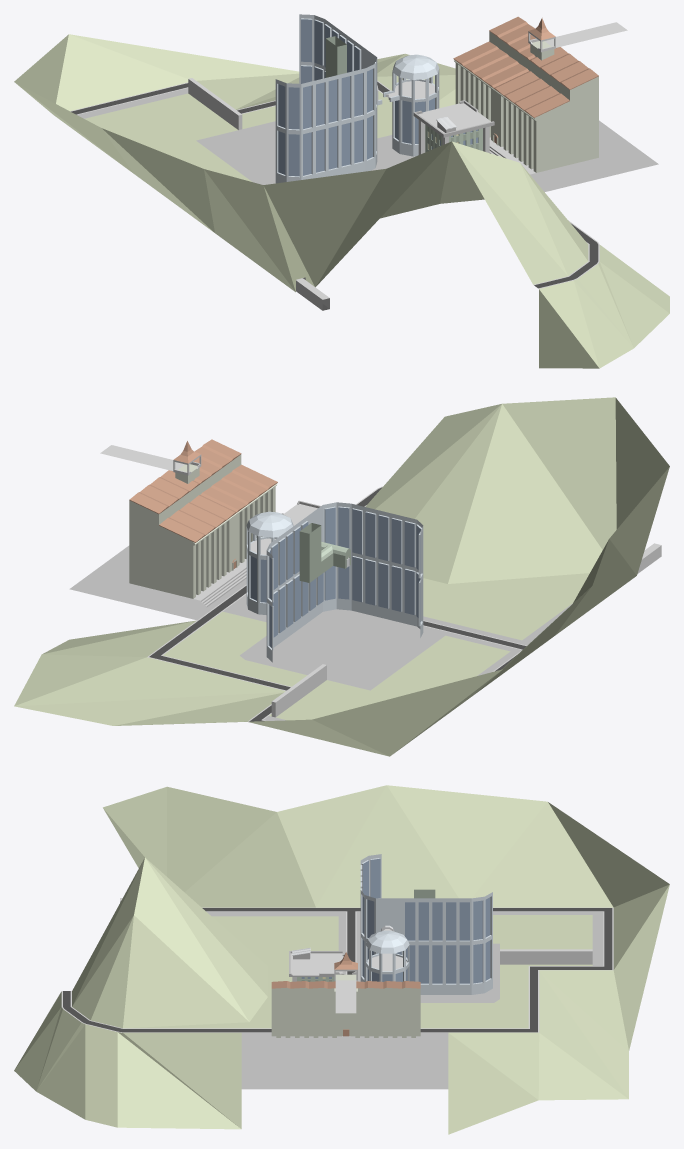
The model's file is Roofs.fbx.
The picture shows the model from 3 angles, top to bottom: view 1: azimuth 30°, elevation 25°; view 2: azimuth 150°, elevation 25°; view 3: azimuth 270°, elevation 25°; orthographic projection. The views are drawn at different scales.
Parts seen in each view (by area): view 1: Skyscrapers; view 2: Skyscrapers; view 3: Skyscrapers.
Part boxes in pixels (x1,y1,x2,y2): Skyscrapers: (14, 14, 669, 368); Skyscrapers: (14, 397, 669, 756); Skyscrapers: (14, 785, 669, 1134).
Bounding box in the file's own units: 227 × 96.78 × 280.
